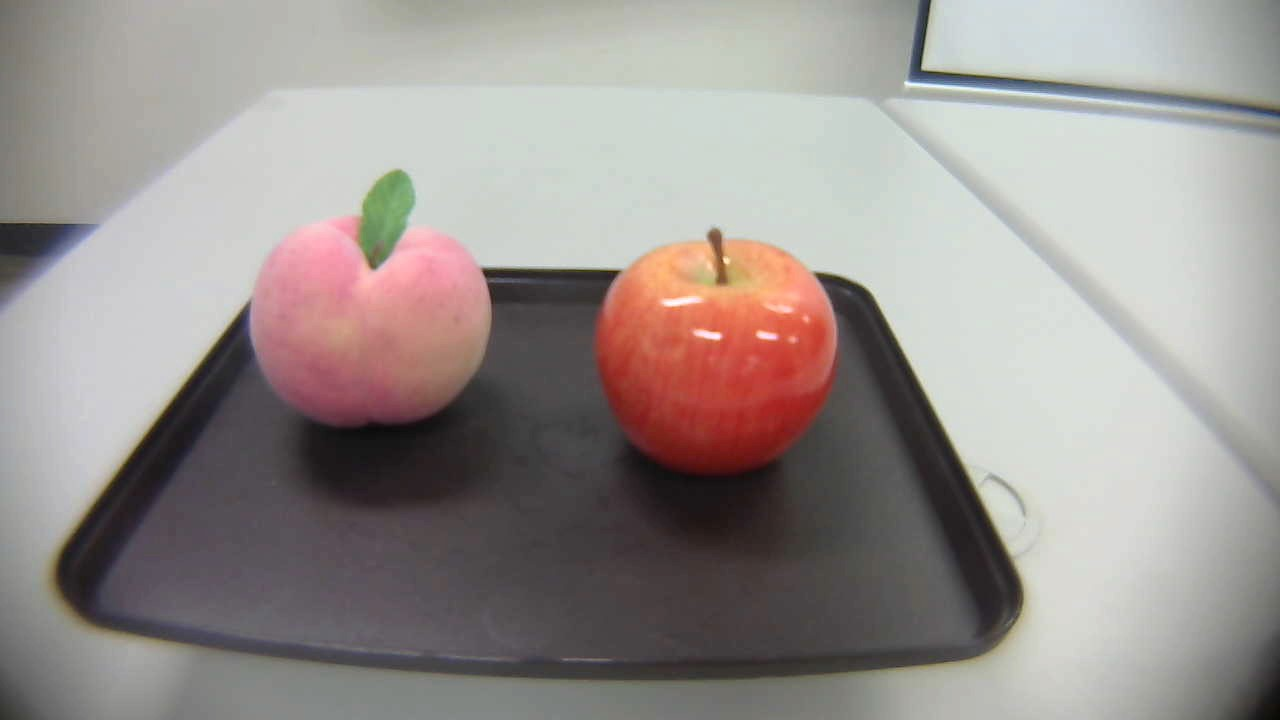peach: (243, 159, 497, 430)
red apple: (588, 227, 847, 487)
